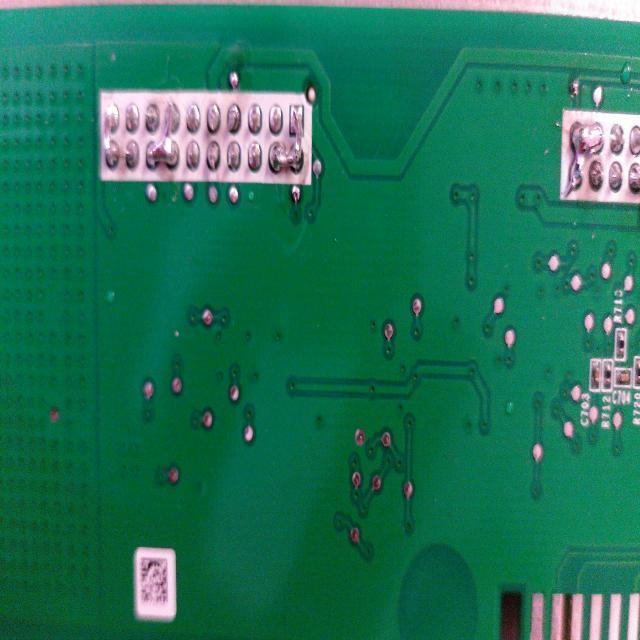Soldering shorted: (269, 102, 309, 180), (569, 118, 605, 196), (147, 103, 178, 170), (101, 100, 120, 162)
